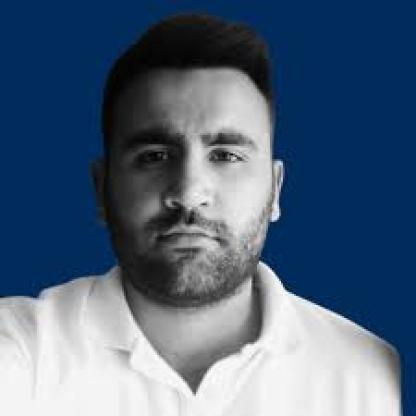person: (96, 13, 281, 301)
